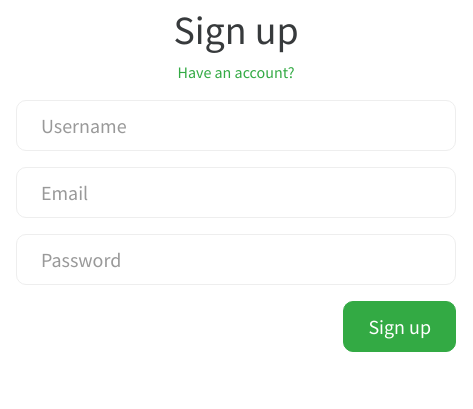
Test case: Auth page › shows server validation errors
Type "u" into the field with placeholder "Username". click: [236, 126]
box: [16,100,456,151]
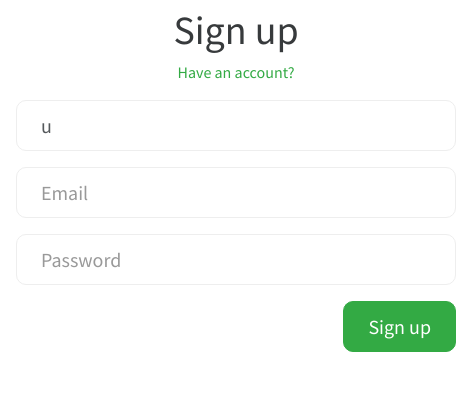
Type "u@test.com" into the field with placeholder "Email". click: [236, 192]
box: [16,167,456,218]
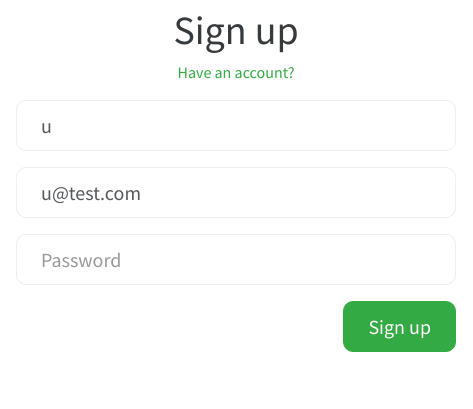
Type "password123" into the password field with placeholder "Password". click: [236, 260]
box: [16,234,456,285]
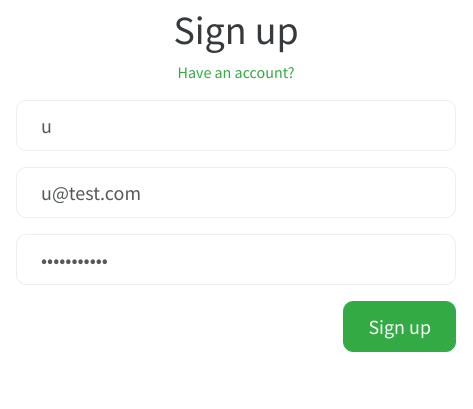
Click the button "Sign up". click: [400, 326]
box: [343,301,456,352]
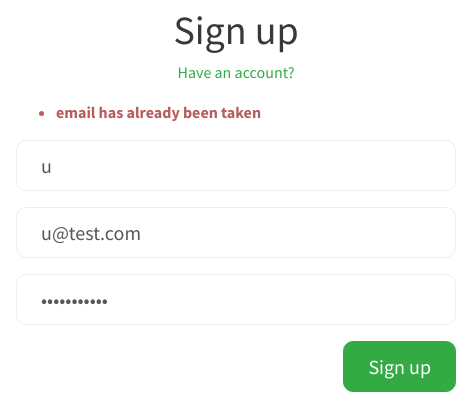
Expected: the list item "email has already been taken" is shown, [56,102,261,122]
